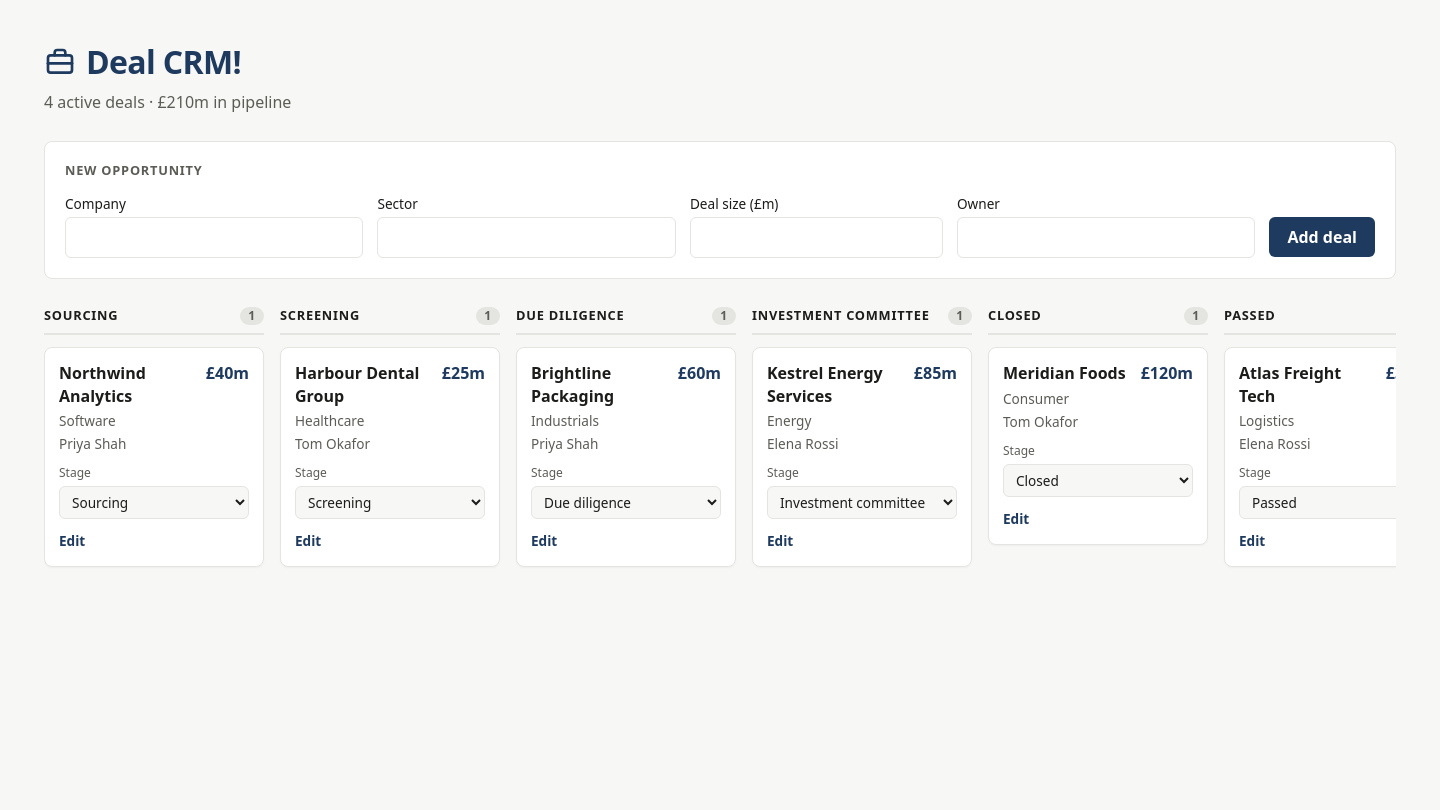
App editing › edits a deal in place and announces it
Click the button named "Edit Northwind Analytics" at (72, 540), box [59,529,85,552]
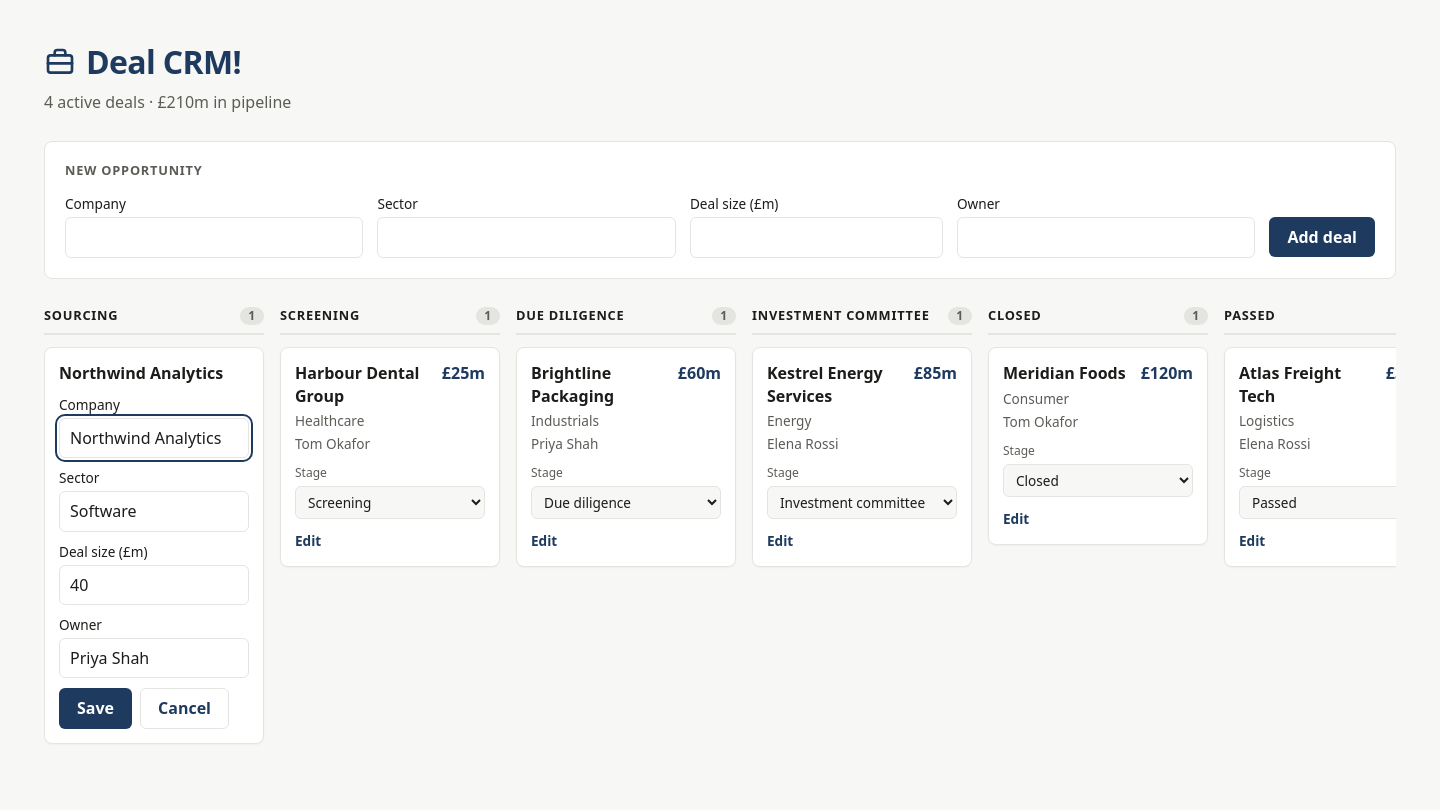
Replace the text in the field labelled "Company" below "Northwind Analytics" with "Northwind Data" at (154, 438), box [59,418,249,458]
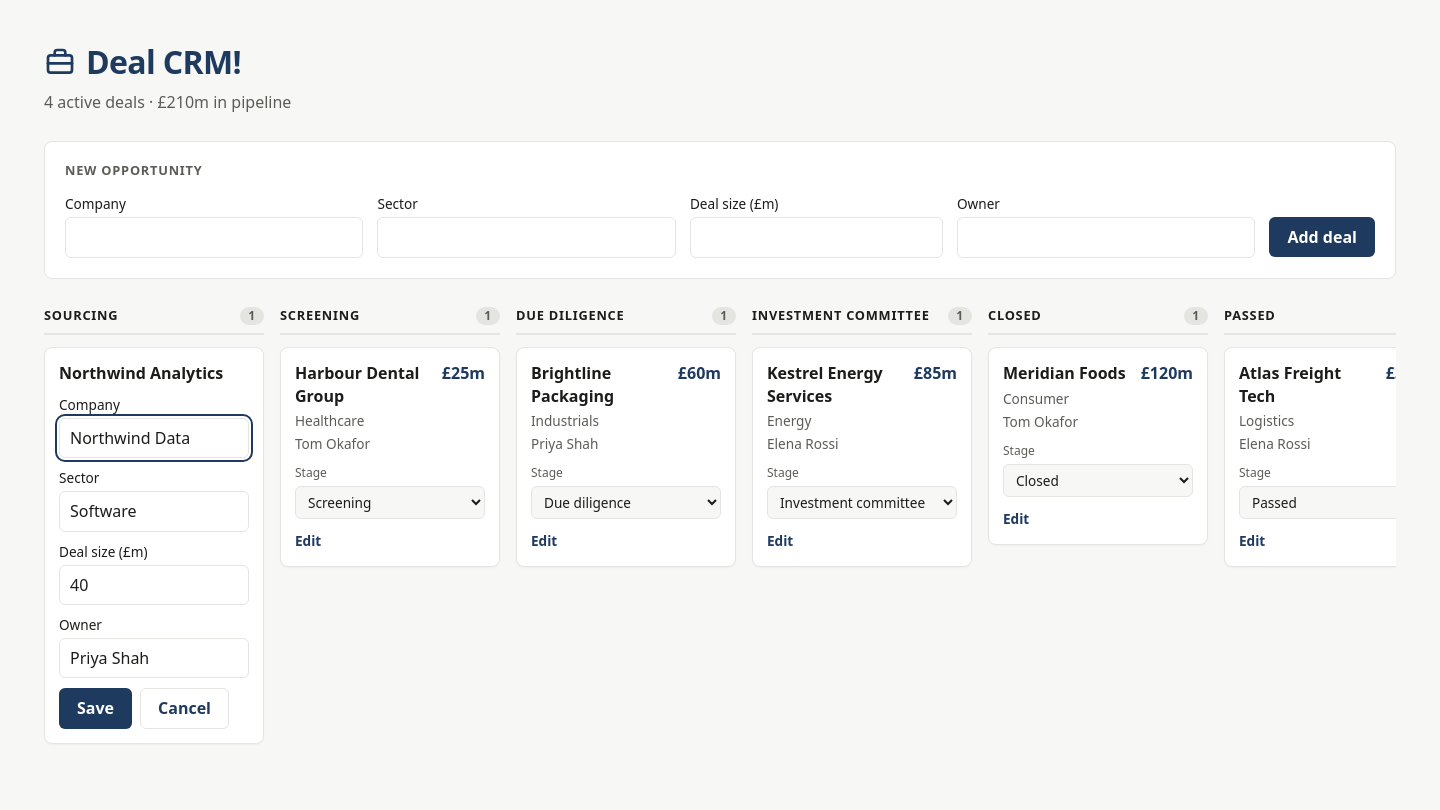
Replace the text in the field labelled "Deal size (£m)" below "Northwind Analytics" with "55" at (154, 585), box [59,565,249,605]
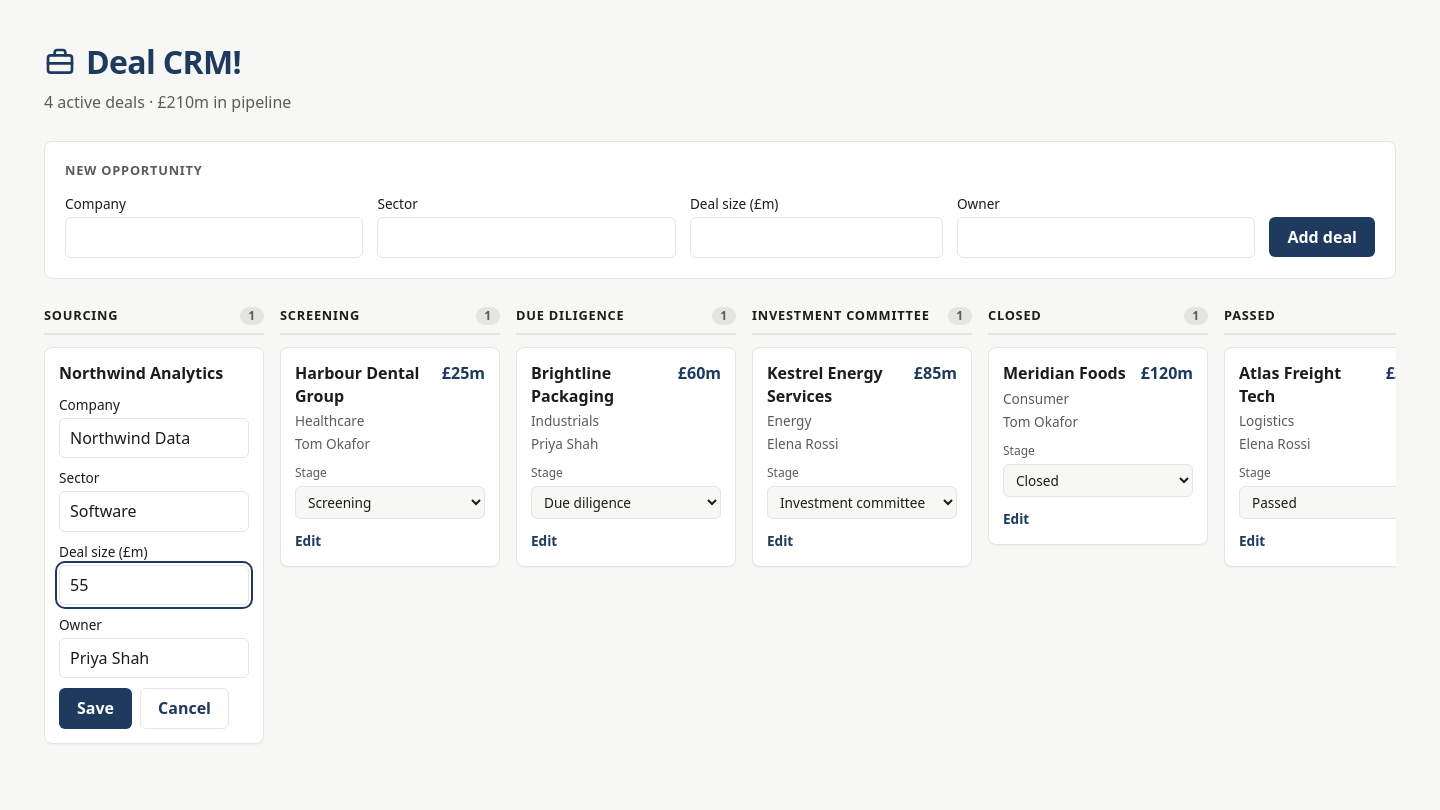
Click the button "Save" at (96, 709), box [59,688,132,729]
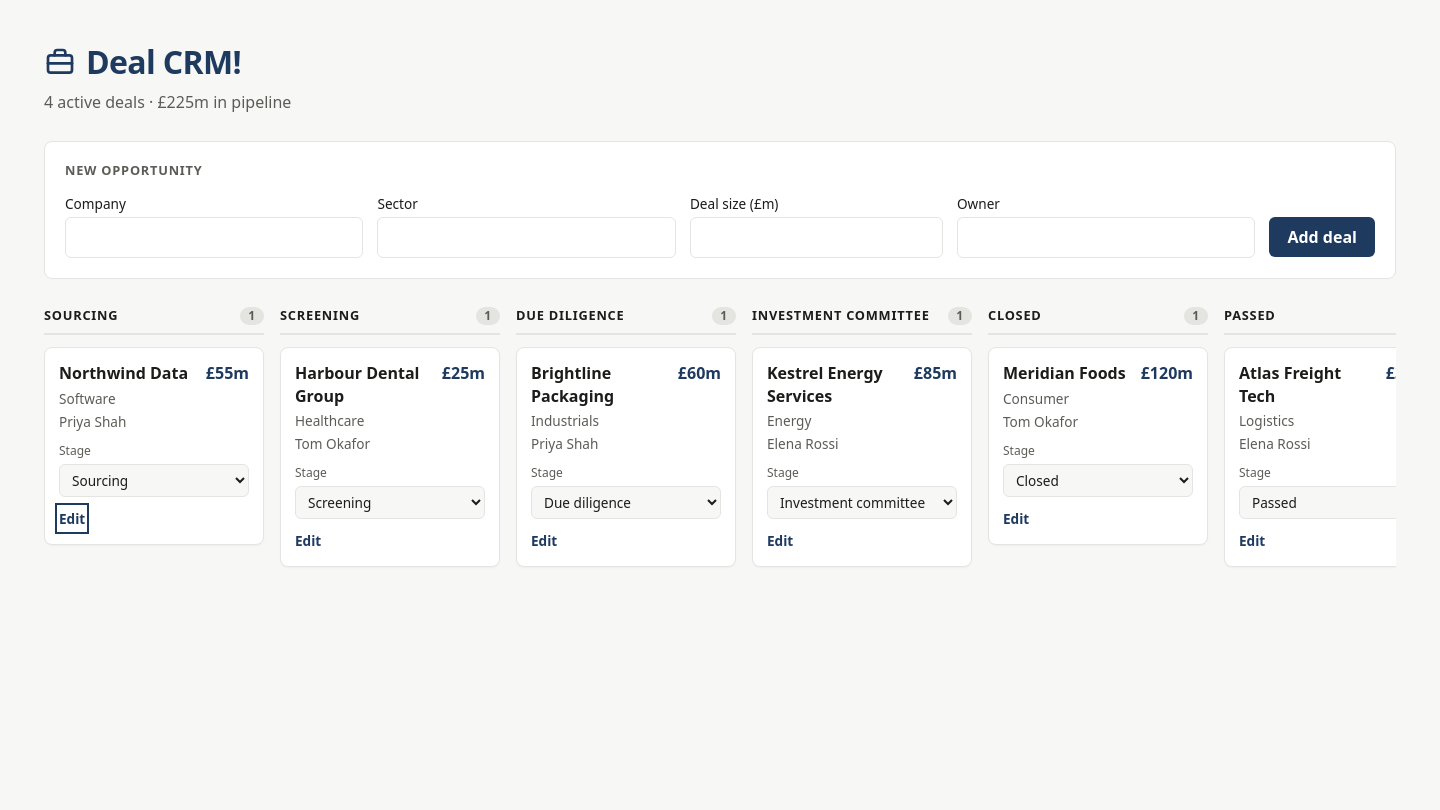
Check: the text "£55m" is shown, box [206,362,249,385]
Check: the text "Software" is shown, box [59,389,116,408]
Check: the text "4 active deals · £225m in pipeline" is shown, box [44,91,291,113]
